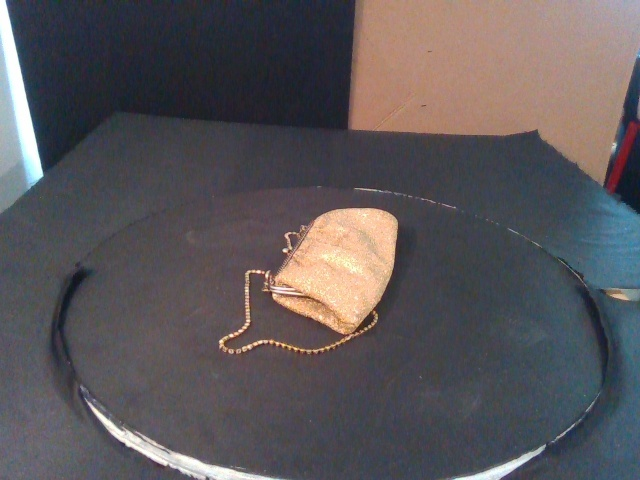bag: (269, 206, 399, 336)
